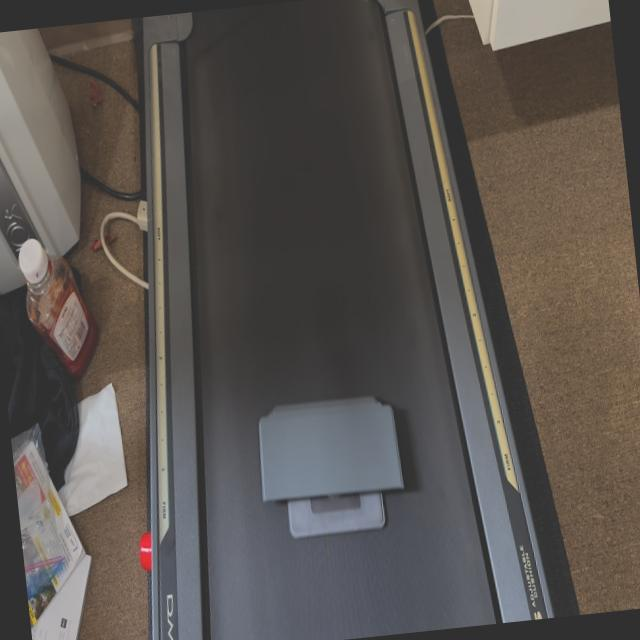Trash: (252, 386, 416, 547)
